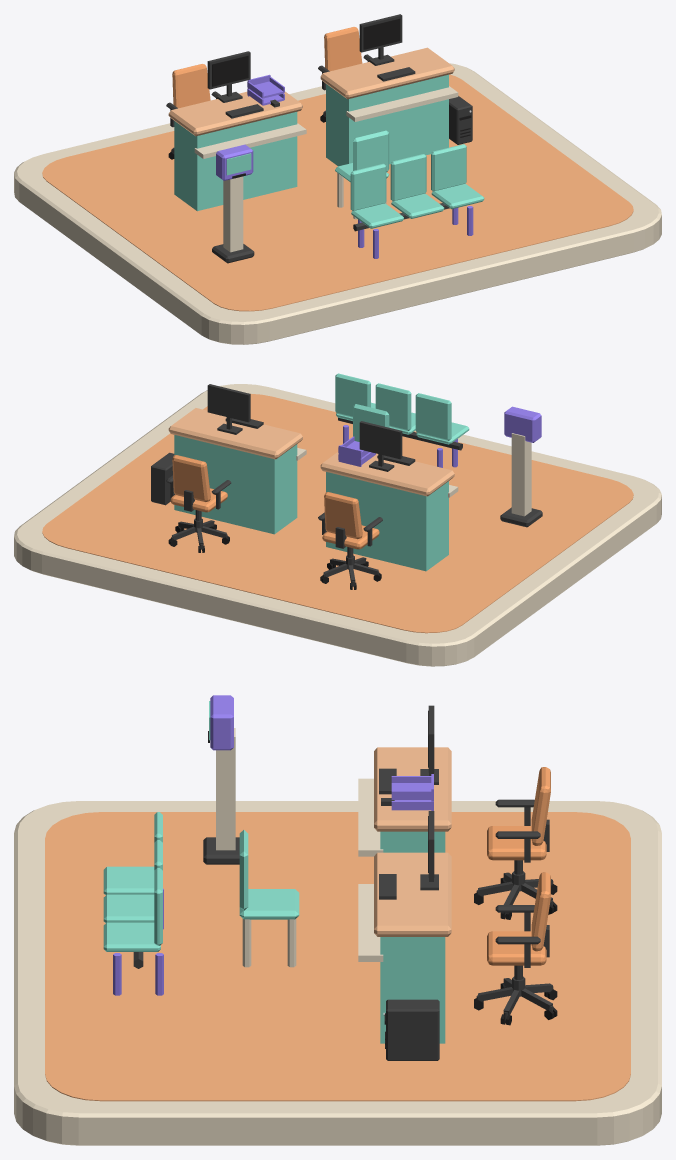
The picture shows the model from 3 angles, top to bottom: view 1: azimuth 30°, elevation 25°; view 2: azimuth 150°, elevation 25°; view 3: azimuth 270°, elevation 25°; orthographic projection. The views are drawn at different scales.
Visible parts, largest first — view 1: COM-02 Floor Surface, COM-01 Rounded Base Direct, Counter body, Counter body.001, Countertop.001, Countertop, COM-04_Chair_blender_direct, COM-04_Chair_blender_direct.001, Frame.001, Frame, Pedestal, Back.001 (+11 smaller); view 2: COM-02 Floor Surface, COM-01 Rounded Base Direct, Counter body.001, Counter body, COM-04_Chair_blender_direct.001, COM-04_Chair_blender_direct, Countertop.001, Countertop, Pedestal, Frame, Frame.001, Back (+6 smaller); view 3: COM-02 Floor Surface, COM-01 Rounded Base Direct, Countertop.001, COM-04_Chair_blender_direct.001, COM-04_Chair_blender_direct, Counter body.001, Countertop, Tower, Pedestal, Seat.003, Seat.002, Seat (+9 smaller).
Part boxes in pixels (<box>): COM-02 Floor Surface: <box>42,74,633,311</box>; COM-01 Rounded Base Direct: <box>14,63,661,344</box>; Counter body: <box>174,112,297,211</box>; Counter body.001: <box>326,74,448,166</box>; Countertop.001: <box>320,47,454,99</box>; Countertop: <box>168,91,302,136</box>; COM-04_Chair_blender_direct: <box>166,64,220,159</box>; COM-04_Chair_blender_direct.001: <box>318,27,372,122</box>; Frame.001: <box>359,14,402,65</box>; Frame: <box>207,51,250,102</box>; Pedestal: <box>223,176,243,252</box>; Back.001: <box>390,154,426,201</box>; COM-02 Floor Surface: <box>42,393,633,633</box>; COM-01 Rounded Base Direct: <box>14,384,661,666</box>; Counter body.001: <box>174,435,297,534</box>; Counter body: <box>326,472,448,571</box>; COM-04_Chair_blender_direct.001: <box>166,455,231,552</box>; COM-04_Chair_blender_direct: <box>318,492,382,589</box>; Countertop.001: <box>168,408,302,459</box>; Countertop: <box>320,452,454,496</box>; Pedestal: <box>511,433,531,516</box>; Frame: <box>359,421,402,471</box>; Frame.001: <box>207,384,250,434</box>; Back: <box>415,393,451,440</box>; COM-02 Floor Surface: <box>45,812,630,1101</box>; COM-01 Rounded Base Direct: <box>14,801,661,1145</box>; Countertop.001: <box>374,852,451,936</box>; COM-04_Chair_blender_direct.001: <box>474,872,557,1025</box>; COM-04_Chair_blender_direct: <box>474,767,557,919</box>; Counter body.001: <box>380,937,445,1043</box>; Countertop: <box>374,747,451,831</box>; Tower: <box>386,999,439,1060</box>; Pedestal: <box>216,728,235,850</box>; Seat.003: <box>239,889,299,919</box>; Seat.002: <box>103,922,160,951</box>; Seat: <box>103,866,154,894</box>.
Size of the model in its own units: 6 by 1.92 by 5.2.
1 material, 1 textured.
